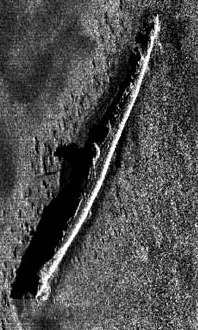ship: (32, 11, 162, 303)
